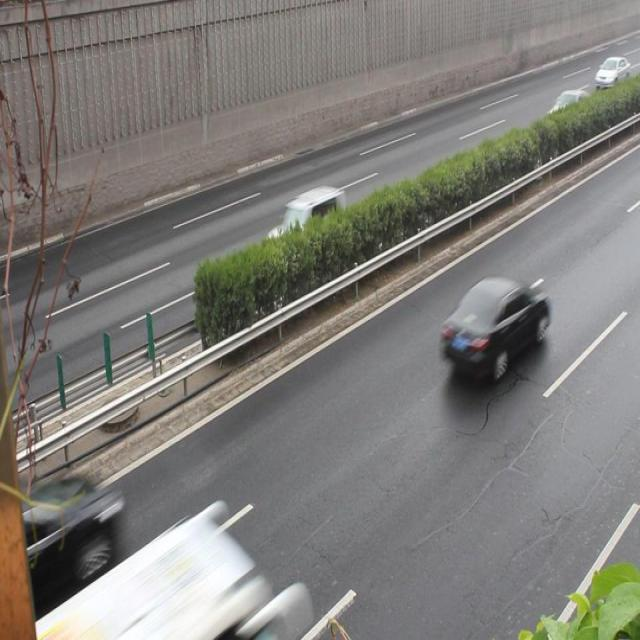car: (8, 469, 115, 596), (442, 273, 548, 372), (265, 185, 346, 264), (539, 88, 590, 136)
